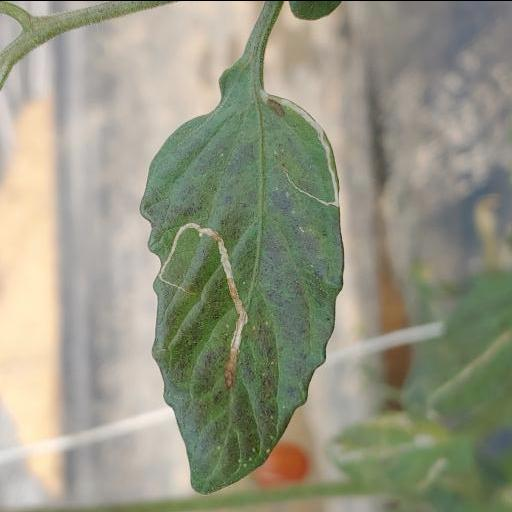disease_tomato: (137, 91, 346, 495)
